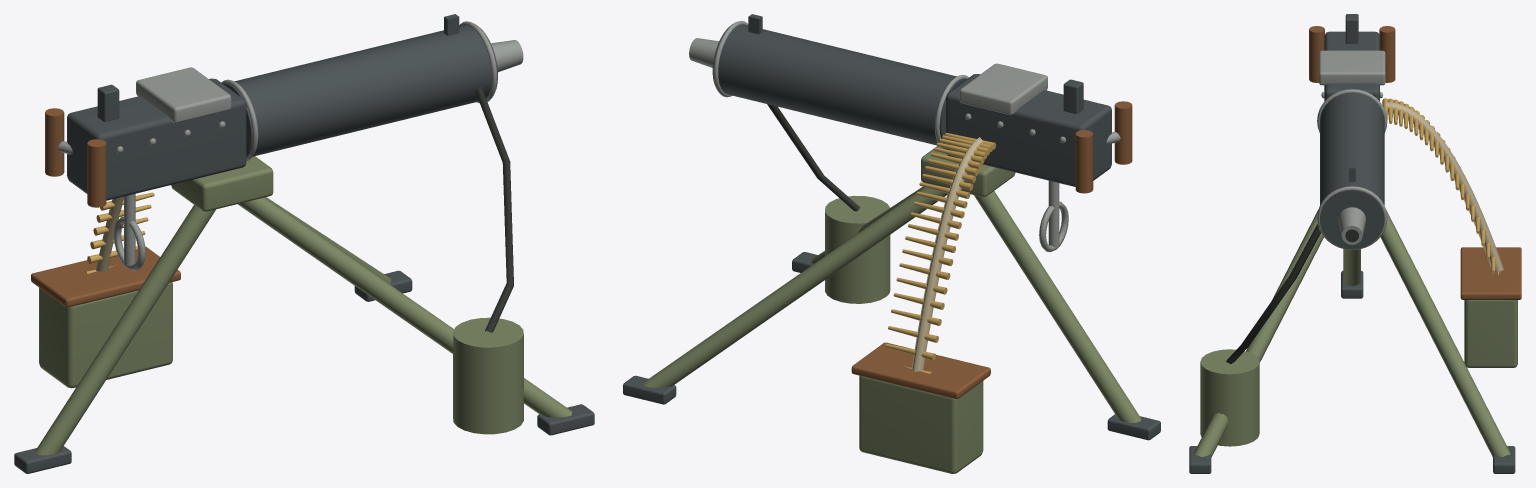
File: vickers_mki_1914_web.glb
3 renders of one model, left to right at view 1: azimuth 30°, elevation 25°; view 2: azimuth 150°, elevation 25°; view 3: azimuth 270°, elevation 25°, orthographic. The views are drawn at different scales.
Parts seen in each view (by area): view 1: Dark_Blued_Steel, Olive_Painted_Metal, Burnished_Steel, Walnut_Wood, Rubber, Brass, Canvas_Linen; view 2: Dark_Blued_Steel, Olive_Painted_Metal, Walnut_Wood, Burnished_Steel, Brass, Canvas_Linen, Rubber; view 3: Olive_Painted_Metal, Dark_Blued_Steel, Walnut_Wood, Burnished_Steel, Brass, Canvas_Linen, Rubber.
Boxes of the visible parts, <box> form: Dark_Blued_Steel: <box>14,14,594,473</box>; Olive_Painted_Metal: <box>35,156,572,455</box>; Burnished_Steel: <box>57,21,523,270</box>; Walnut_Wood: <box>31,108,180,307</box>; Rubber: <box>475,86,513,332</box>; Brass: <box>85,192,154,273</box>; Canvas_Linen: <box>96,196,123,271</box>; Dark_Blued_Steel: <box>623,14,1160,440</box>; Olive_Painted_Metal: <box>644,146,1141,473</box>; Walnut_Wood: <box>851,101,1132,398</box>; Burnished_Steel: <box>689,20,1120,252</box>; Brass: <box>885,132,995,373</box>; Canvas_Linen: <box>912,137,982,371</box>; Rubber: <box>767,104,860,211</box>; Olive_Painted_Metal: <box>1194,209,1517,457</box>; Dark_Blued_Steel: <box>1189,14,1515,473</box>; Walnut_Wood: <box>1309,26,1521,299</box>; Burnished_Steel: <box>1317,50,1387,249</box>; Brass: <box>1382,98,1499,275</box>; Canvas_Linen: <box>1386,102,1503,272</box>; Rubber: <box>1226,224,1358,363</box>.
Bounding box in the file's own units: 2.59 × 1.79 × 1.8.
